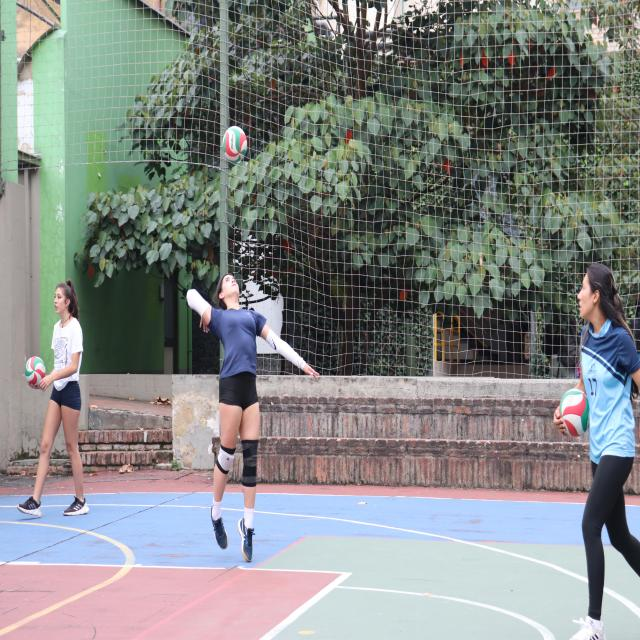volleyball: (559, 389, 591, 436), (224, 126, 248, 163), (25, 356, 45, 386)
